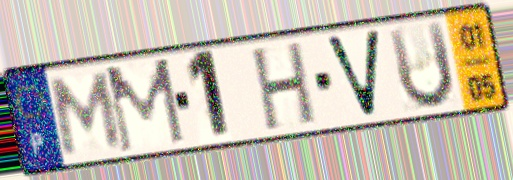1: (184, 46, 235, 143)
H: (250, 38, 319, 135)
M: (102, 54, 189, 157), (49, 69, 126, 160)
U: (384, 17, 458, 114)
V: (320, 27, 384, 122)
